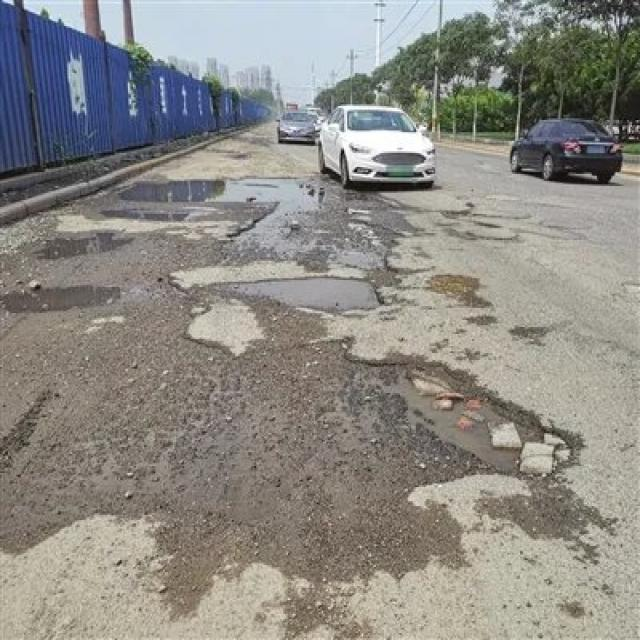Pothole: (344, 346, 576, 484), (222, 273, 397, 320), (126, 176, 330, 214), (16, 274, 136, 328), (40, 233, 155, 270)
